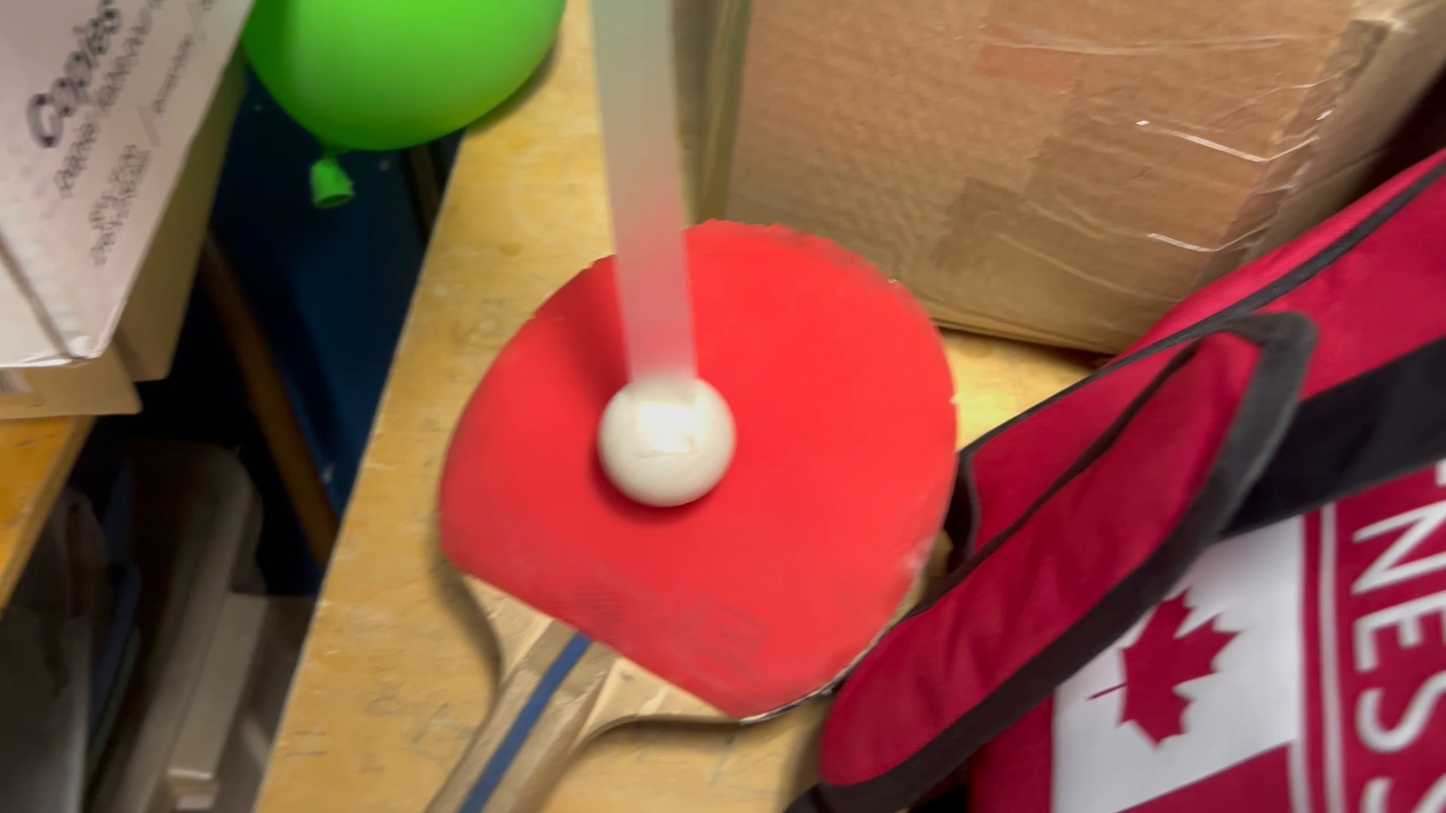Ball: (592, 384, 732, 497)
